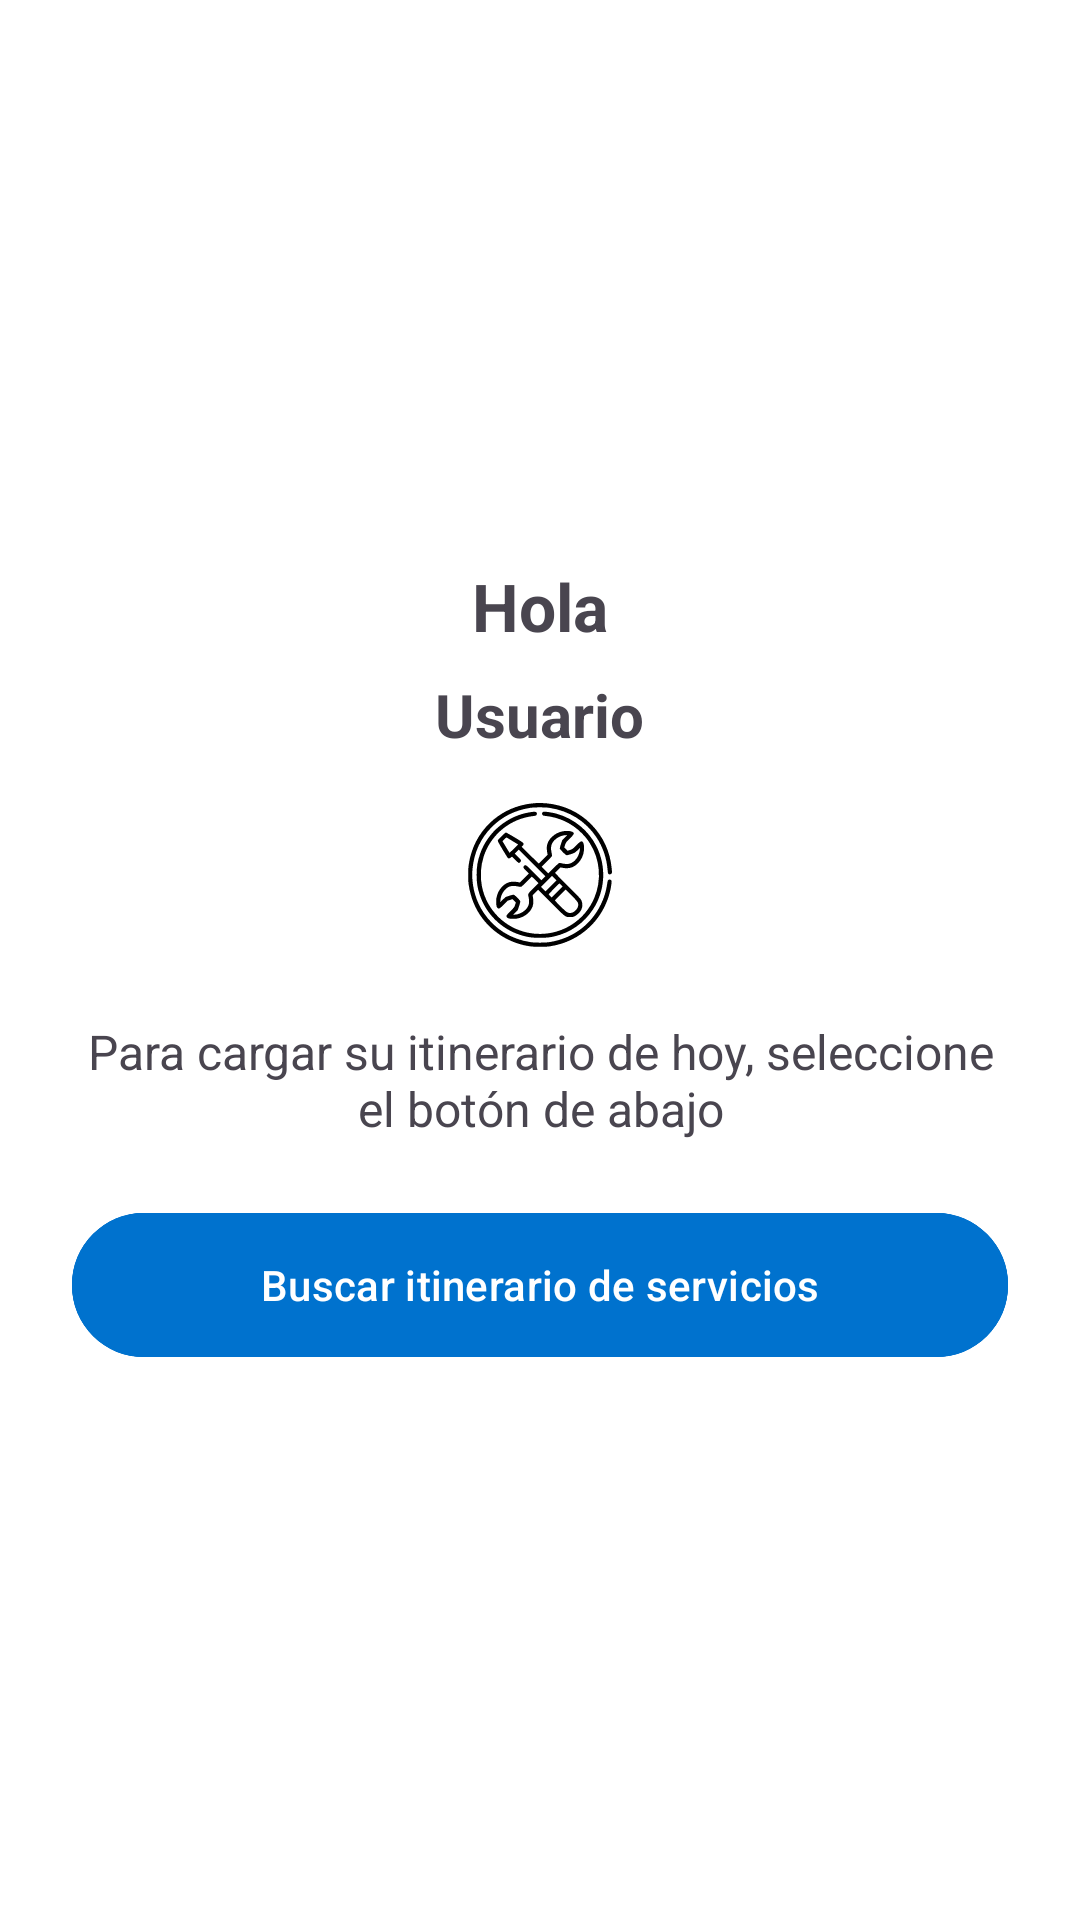

Locate icon controls on the screen. Image size 1080x1920, boxes as box(x1, y1, x2, y2).
maintenance: box(468, 803, 612, 947)
